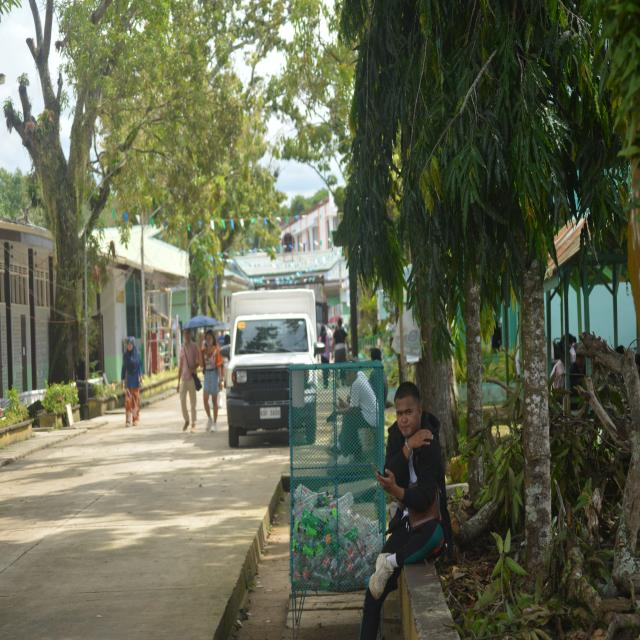person: (360, 383, 452, 639), (200, 329, 223, 432), (178, 329, 200, 432), (121, 337, 142, 426)
